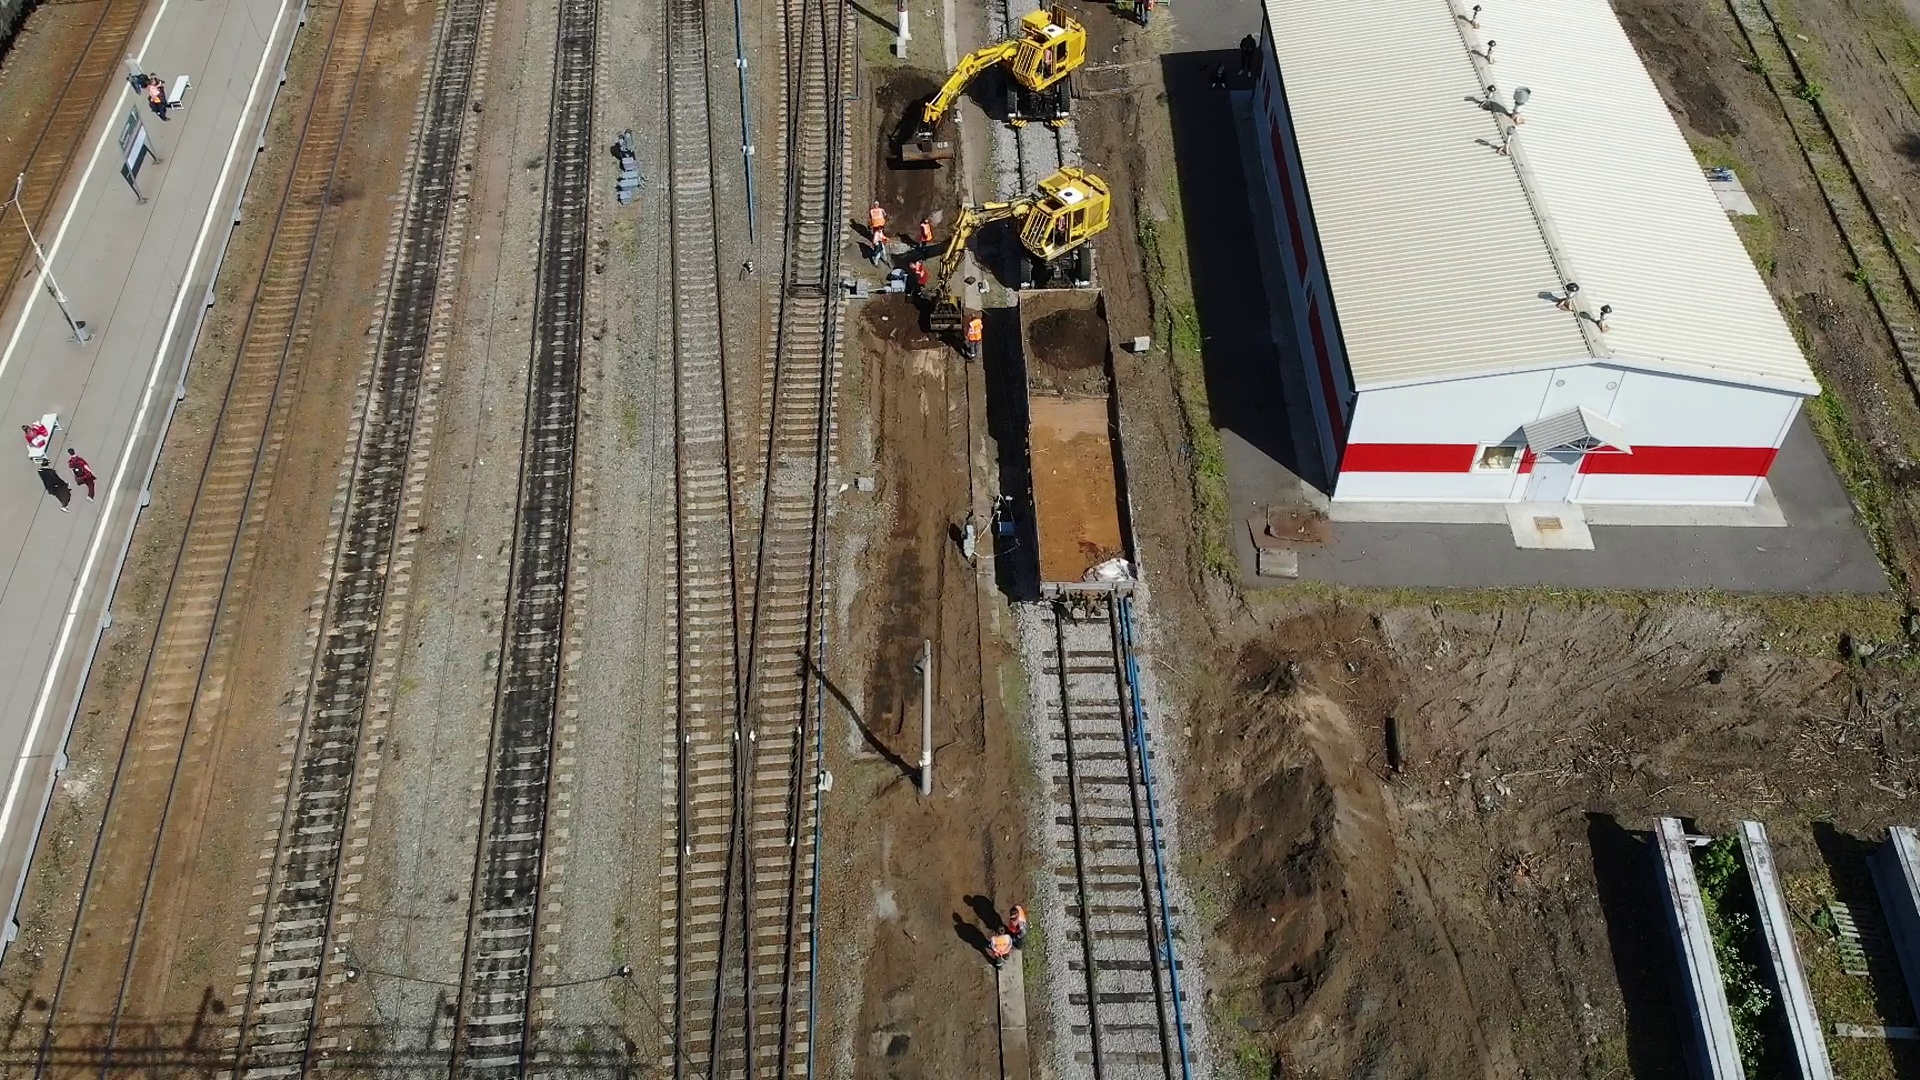kjtv: (1011, 163, 1104, 284), (1001, 25, 1088, 127)
